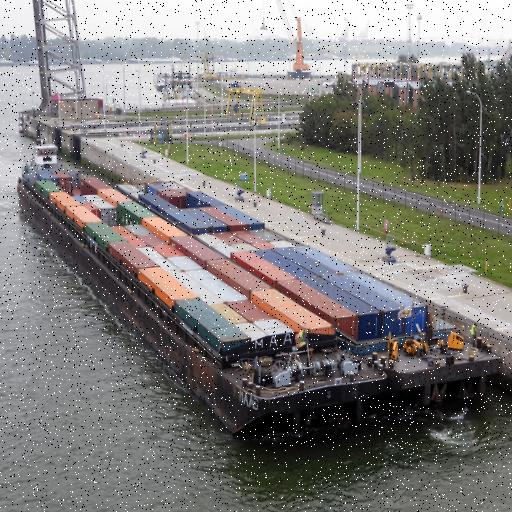tugboat: (19, 137, 83, 209)
